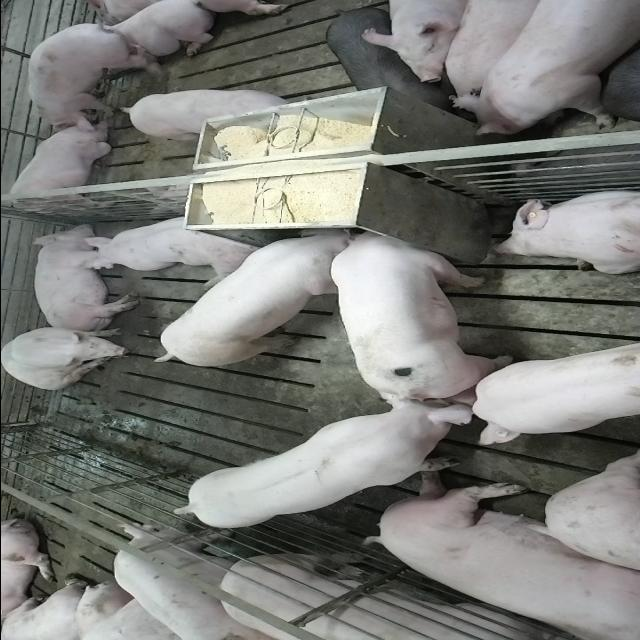Feeding: (330, 222, 514, 394), (144, 228, 358, 372)
Lateral_lying: (364, 472, 640, 637), (28, 223, 140, 333)
Sitting: (0, 120, 123, 218), (2, 326, 136, 390)
Standing: (163, 389, 478, 530), (213, 551, 576, 640), (459, 2, 640, 138), (106, 527, 266, 640), (472, 338, 640, 442), (23, 23, 162, 131), (438, 3, 554, 108), (324, 5, 432, 105), (115, 84, 294, 138), (360, 0, 473, 80)
Sternal_lying: (489, 187, 640, 275), (78, 210, 258, 274), (84, 2, 213, 68)
